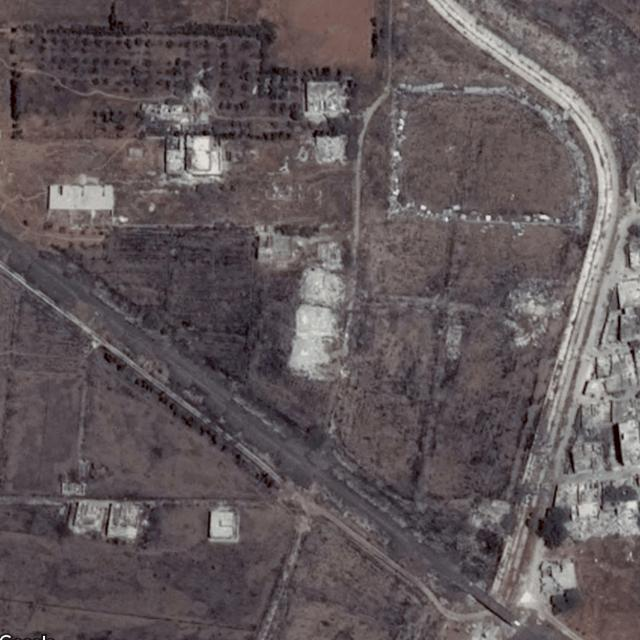damaged_building: (256, 223, 345, 381)
